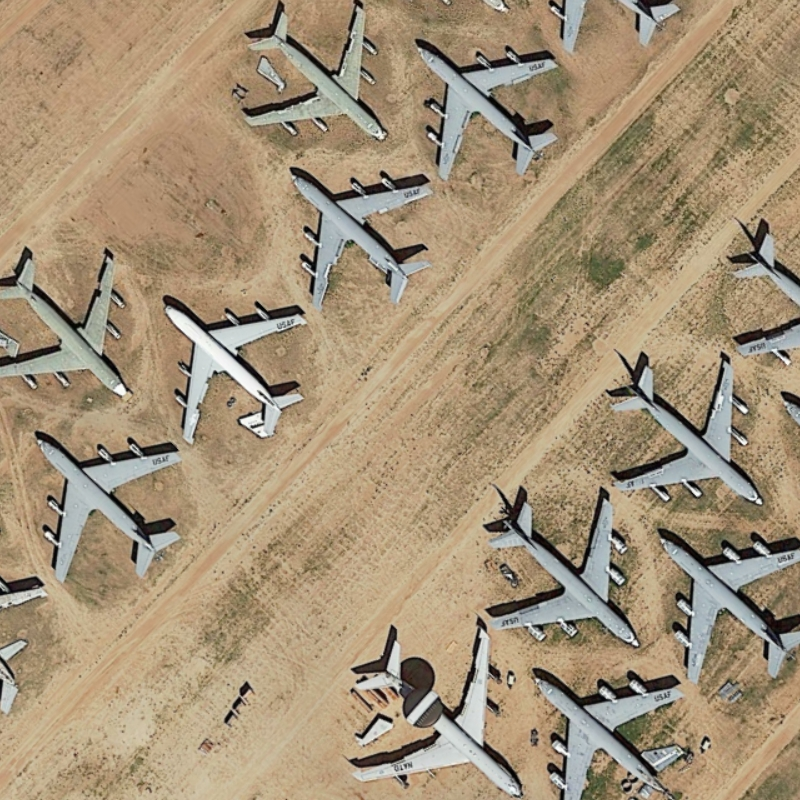A14: (26, 422, 201, 583), (482, 486, 647, 653), (155, 283, 318, 445), (609, 353, 769, 511), (281, 158, 442, 311), (655, 523, 800, 689), (527, 661, 699, 800), (409, 36, 576, 178), (1, 235, 133, 409), (240, 5, 392, 148)
A7: (342, 623, 529, 800)
